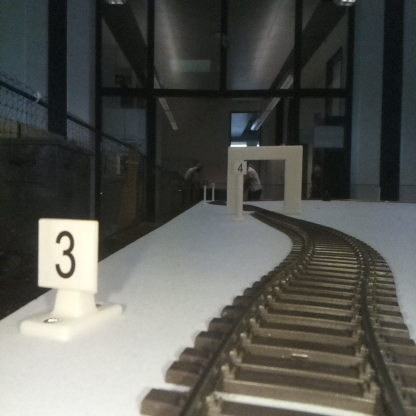white-info-4: (234, 161, 246, 219)
white-stop-3: (37, 220, 97, 335)
